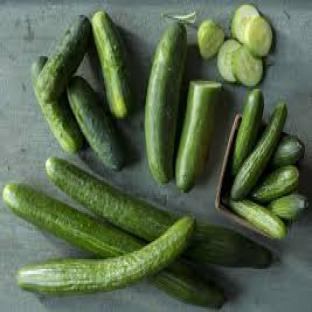Cucumber: (18, 217, 195, 293), (46, 157, 176, 241), (4, 184, 144, 257), (145, 24, 186, 183), (231, 103, 287, 199), (67, 76, 123, 170), (176, 81, 222, 191), (31, 57, 82, 153), (37, 15, 91, 100), (92, 12, 133, 118), (184, 222, 272, 269), (232, 90, 264, 176), (226, 199, 286, 239), (252, 166, 299, 203), (232, 47, 262, 87), (244, 17, 272, 57), (272, 136, 304, 168), (198, 20, 224, 59), (268, 194, 308, 219), (232, 5, 259, 42), (218, 40, 240, 82), (162, 12, 197, 26)
